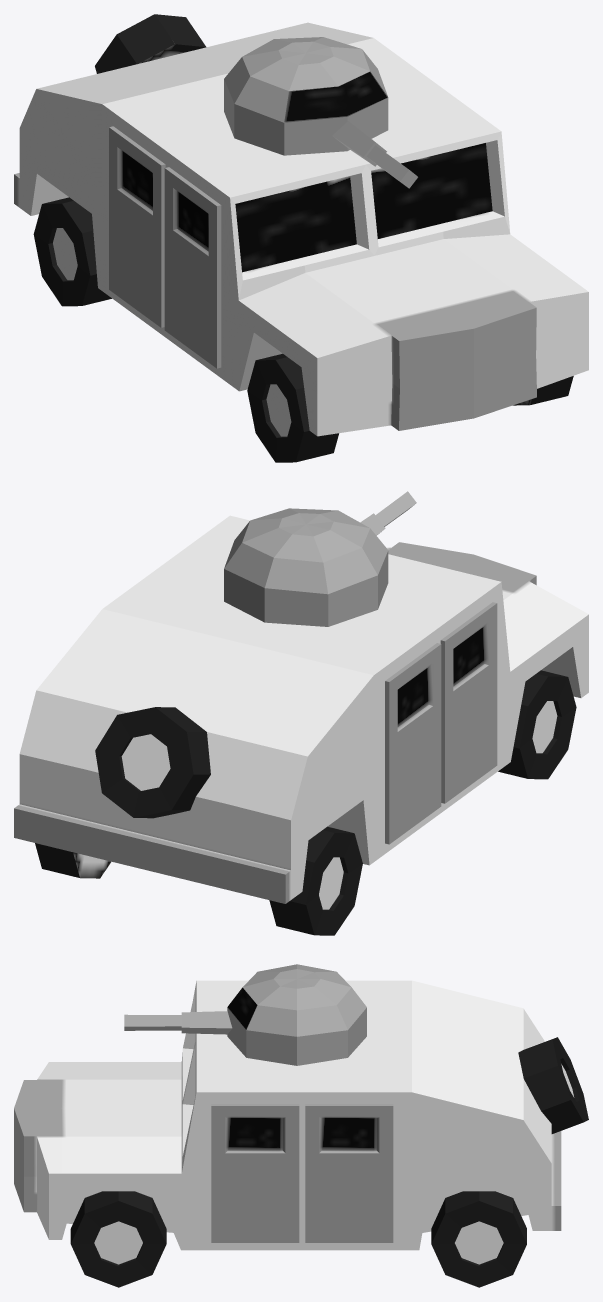
The model's file is hummer.fbx.
3 views of the same model, one above another, from view 1: azimuth 30°, elevation 25°; view 2: azimuth 150°, elevation 25°; view 3: azimuth 270°, elevation 25° (orthographic). The views are drawn at different scales.
Parts seen in each view (by area): view 1: Hummer, HummerHead; view 2: Hummer, HummerHead; view 3: Hummer, HummerHead.
Boxes of the visible parts, x1=… form: Hummer: x1=14, y1=14, x2=588, y2=462; HummerHead: x1=224, y1=37, x2=417, y2=188; Hummer: x1=14, y1=515, x2=588, y2=935; HummerHead: x1=224, y1=491, x2=416, y2=626; Hummer: x1=14, y1=980, x2=588, y2=1287; HummerHead: x1=124, y1=964, x2=366, y2=1065.
Size of the model in its own units: 81.82 by 83.51 by 172.
1 material, 1 textured.
